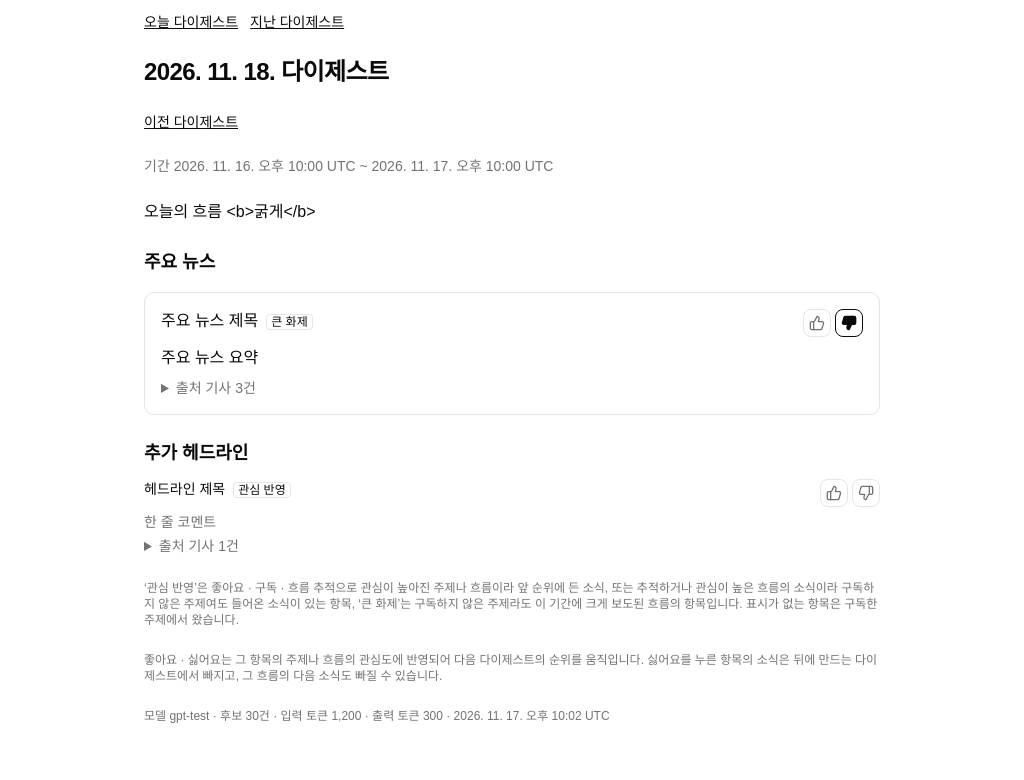
다이제스트 화면의 좋아요 · 싫어요 › 그 밖의 실패면 남기지 못했다고 알리고 상태는 그대로다
Click the button named "좋아요" in the row of "주요 뉴스 제목".
click(817, 323)  # box [803,309,831,337]
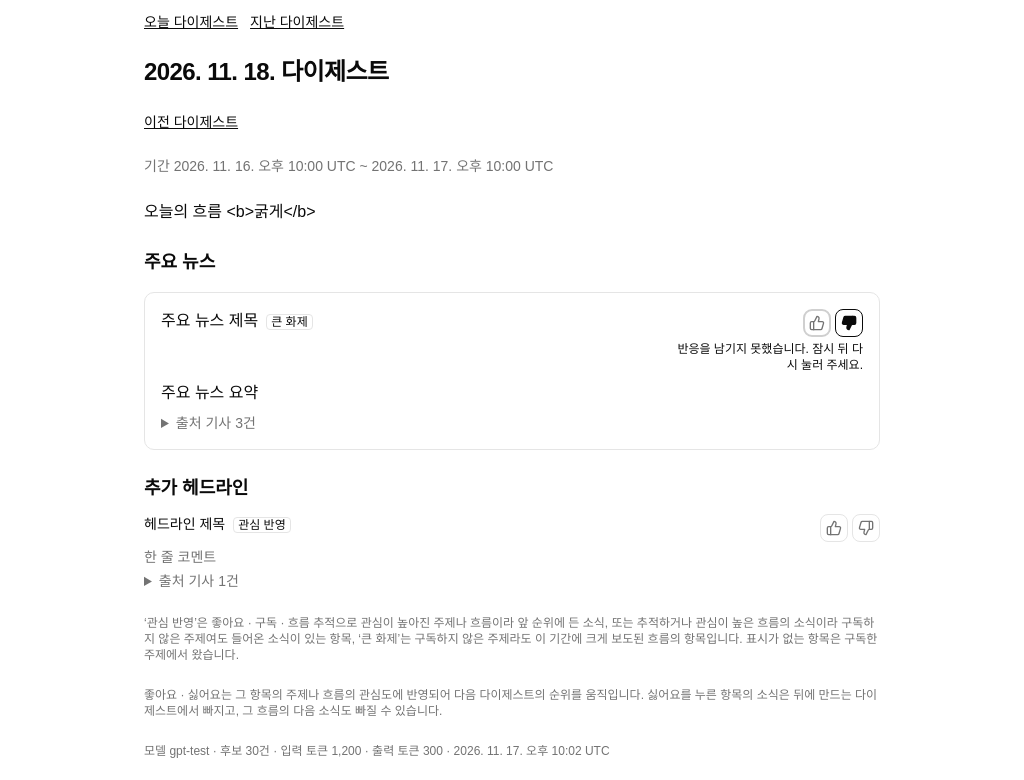
expect the message reads "반응을 남기지 못했습니다. 잠시 뒤 다시 눌러 주세요.": met, box [677,342,863,372]
